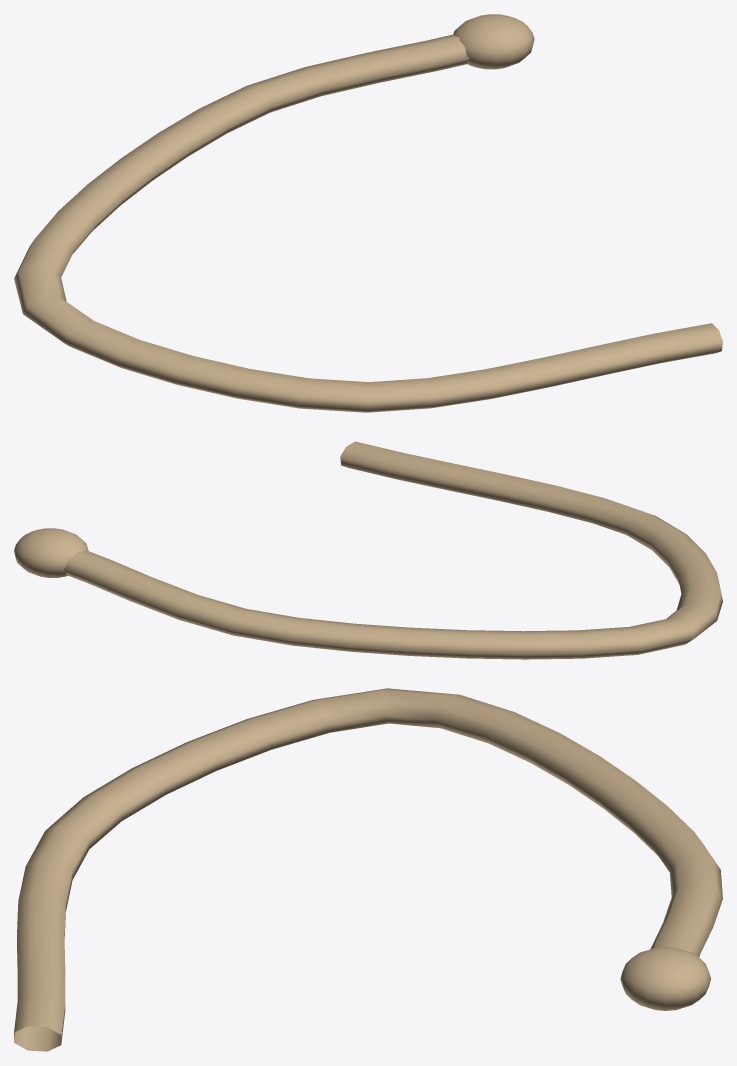
The model's file is right_rib_8.glb.
The picture shows the model from 3 angles, top to bottom: view 1: azimuth 30°, elevation 25°; view 2: azimuth 150°, elevation 25°; view 3: azimuth 270°, elevation 25°; orthographic projection. The views are drawn at different scales.
Parts seen in each view (by area): view 1: right_rib_8:costal-body, right_rib_8:head; view 2: right_rib_8:costal-body, right_rib_8:head; view 3: right_rib_8:costal-body, right_rib_8:head.
Boxes of the visible parts, x1,y1,x2,y2 form: right_rib_8:costal-body: (14, 34, 722, 412); right_rib_8:head: (453, 14, 534, 69); right_rib_8:costal-body: (64, 441, 722, 659); right_rib_8:head: (14, 528, 88, 577); right_rib_8:costal-body: (14, 688, 722, 1051); right_rib_8:head: (620, 947, 710, 1010).
Size of the model in its own units: 0.6784 by 0.117 by 0.585.
